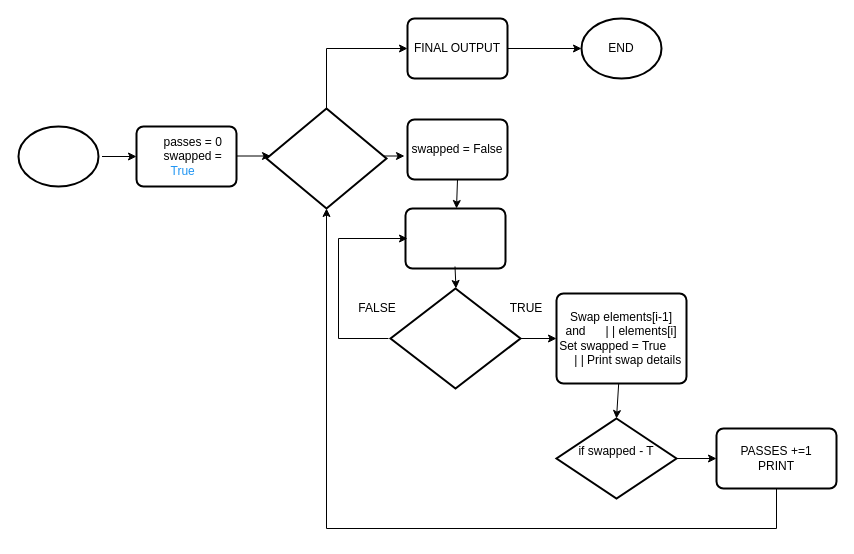
This 854x554 diagram has some shape labels left out. The centre of each missing label's shape, as x and y in pixels:
For i = 1 to len(elements)-1: the point at 455,238
If elements[i-1] > elements[i]: the point at 455,338
Start: the point at 58,156
while swapped = T: the point at 326,158
